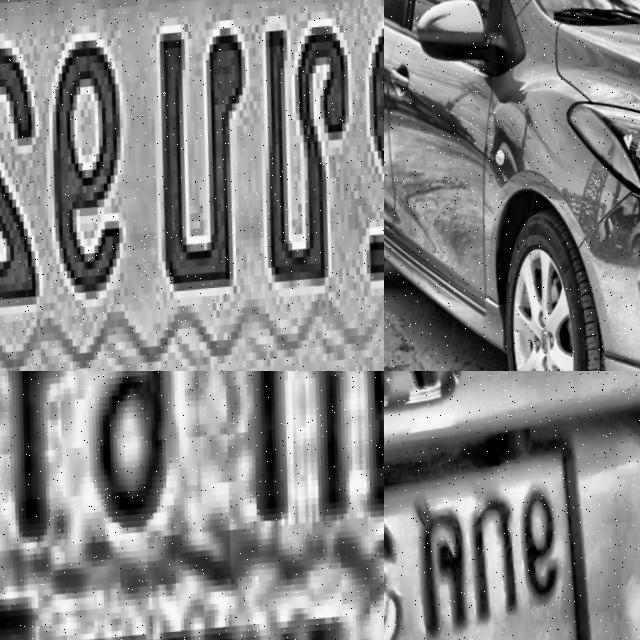license-plate: (0, 0, 384, 371), (0, 371, 384, 640), (384, 450, 580, 640)
